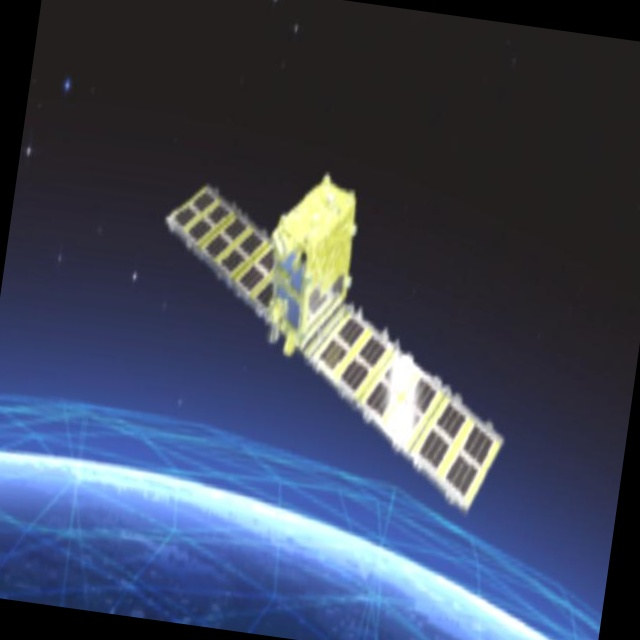satellite: (128, 130, 548, 527)
